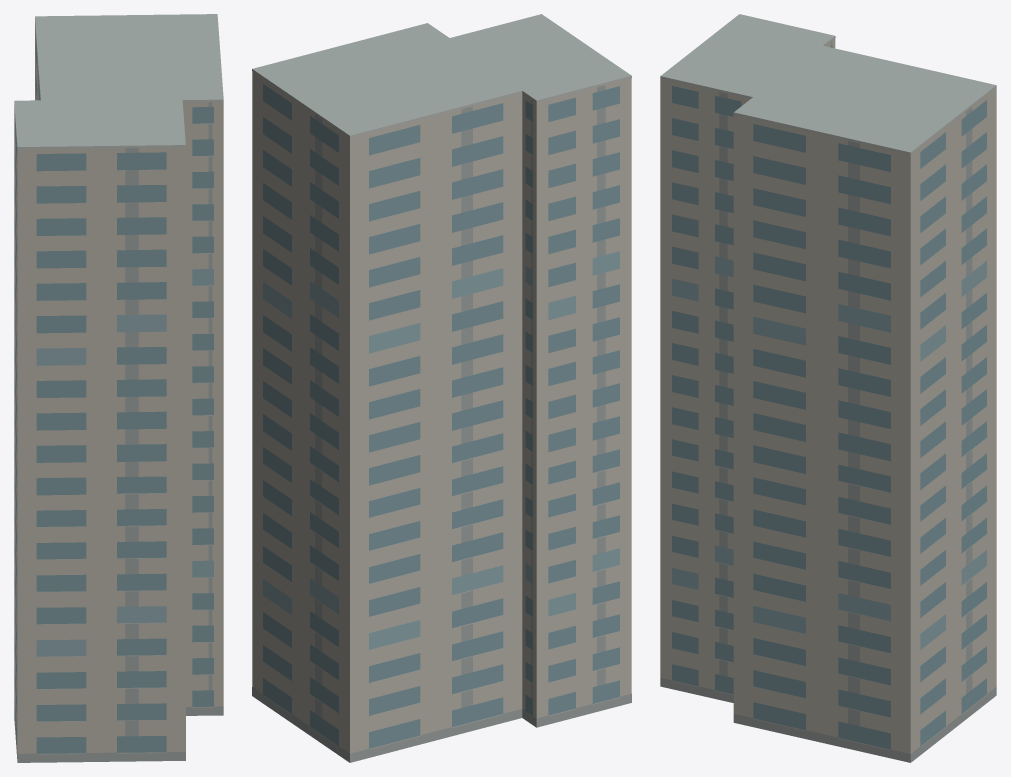
File: residential-c7b98f9c-551e-4ee8-999e-c3a696d8667e.glb
3 renders of one model, left to right at view 1: azimuth 30°, elevation 25°; view 2: azimuth 150°, elevation 25°; view 3: azimuth 270°, elevation 25°, orthographic. The views are drawn at different scales.
Parts seen in each view (by area): view 1: residential-c7b98f9c-551e-4ee8-999e-c3a696d8667e.tmp; view 2: residential-c7b98f9c-551e-4ee8-999e-c3a696d8667e.tmp; view 3: residential-c7b98f9c-551e-4ee8-999e-c3a696d8667e.tmp.
Part boxes in pixels (x1,y1,x2,y2): residential-c7b98f9c-551e-4ee8-999e-c3a696d8667e.tmp: (14,14,223,762); residential-c7b98f9c-551e-4ee8-999e-c3a696d8667e.tmp: (252,14,631,762); residential-c7b98f9c-551e-4ee8-999e-c3a696d8667e.tmp: (660,14,996,762).
Size of the model in its own units: 29.21 by 60 by 29.96.
